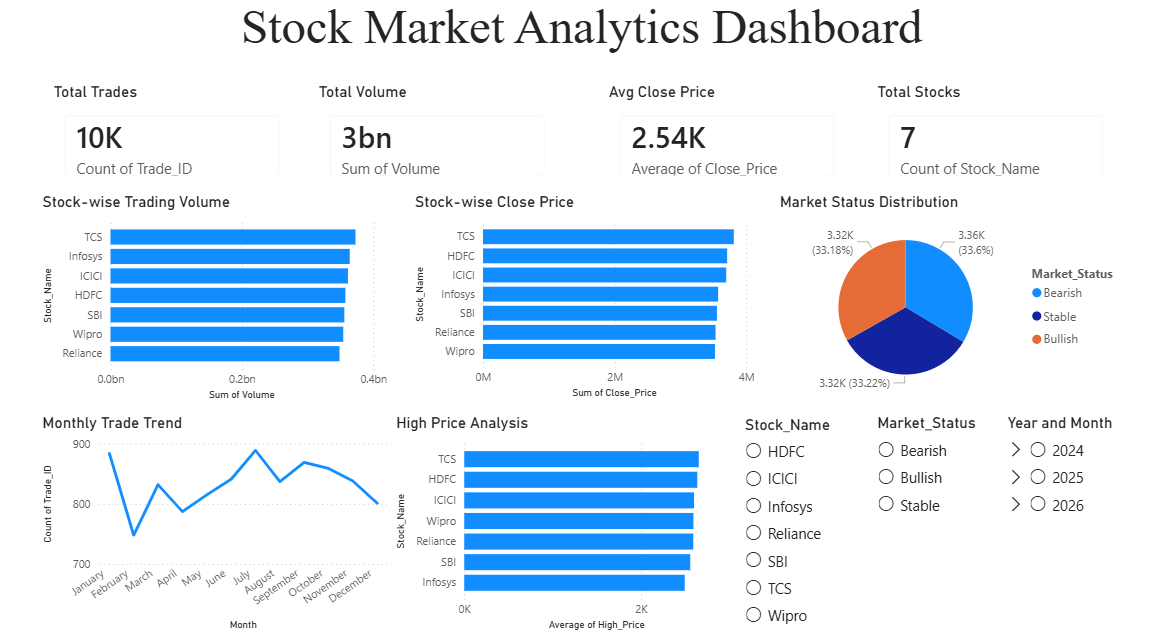

What the dashboard file says about the page in this screenshot:
{"tool":"powerbi","page":{"name":"Page 1","canvas":[1280,720],"ordinal":0},"visuals":[{"type":"textbox","box":[9.6,0,1270.7,68.6],"z":0},{"type":"cardVisual","title":"Total Trades","fields":{"Data":["CountNonNull(Sheet1.Trade_ID)"]},"box":[56.3,96.1,270.3,120.8],"z":1000},{"type":"cardVisual","title":"Total Volume","fields":{"Data":["Sum(Sheet1.Volume)"]},"box":[347.2,96.1,270.3,120.8],"z":2000},{"type":"cardVisual","title":"Avg Close Price","fields":{"Data":["Avg(Sheet1.Close_Price)"]},"box":[665.5,96.1,270.3,120.8],"z":3000},{"type":"cardVisual","title":"Total Stocks","fields":{"Data":["Count(Sheet1.Stock_Name)"]},"box":[960.6,96.1,270.3,120.8],"z":4000},{"type":"clusteredBarChart","title":"Stock-wise Trading Volume","fields":{"Y":["Sum(Sheet1.Volume)"],"Category":["Sheet1.Stock_Name"]},"box":[43.9,216.8,388.3,233.3],"z":5000},{"type":"clusteredBarChart","title":"Stock-wise Close Price","fields":{"Y":["Sum(Sheet1.Close_Price)"],"Category":["Sheet1.Stock_Name"]},"box":[452.8,216.8,382.8,230.5],"z":6000},{"type":"pieChart","title":"Market Status Distribution","fields":{"Y":["CountNonNull(Sheet1.Trade_ID)"],"Category":["Sheet1.Market_Status"]},"box":[853.5,216.8,391.1,233.3],"z":7000},{"type":"lineChart","title":"Monthly Trade Trend","fields":{"Category":["Sheet1.Trade_Date.Variation.Date Hierarchy.Month"],"Y":["CountNonNull(Sheet1.Trade_ID)"]},"box":[43.9,459.7,388.3,242.9],"z":8000},{"type":"clusteredBarChart","title":"High Price Analysis","fields":{"Y":["Avg(Sheet1.High_Price)"],"Category":["Sheet1.Stock_Name"]},"box":[432.2,459.7,382.8,242.9],"z":9000},{"type":"listSlicer","fields":{"Values":["Sheet1.Stock_Name"]},"box":[815.1,461.1,141.3,242.9],"z":10000},{"type":"listSlicer","fields":{"Values":["Sheet1.Market_Status"]},"box":[960.6,459.7,141.3,242.9],"z":11000},{"type":"listSlicer","fields":{"Values":["Sheet1.Trade_Date.Variation.Date Hierarchy.Year","Sheet1.Trade_Date.Variation.Date Hierarchy.Month","Sheet1.Trade_Date.Variation.Date Hierarchy.Day"]},"box":[1103.3,459.7,141.3,242.9],"z":12000}]}

Visuals, with their boxes in screenshot pixels (x1, y1, x2, y2), scaled from the page's 1280x720 canvas onto the 1151x643 screenshot:
textbox: <bbox>9, 0, 1150, 61</bbox>
"Total Trades" cardVisual: <bbox>51, 86, 294, 194</bbox>
"Total Volume" cardVisual: <bbox>312, 86, 555, 194</bbox>
"Avg Close Price" cardVisual: <bbox>598, 86, 841, 194</bbox>
"Total Stocks" cardVisual: <bbox>864, 86, 1107, 194</bbox>
"Stock-wise Trading Volume" clusteredBarChart: <bbox>39, 194, 389, 402</bbox>
"Stock-wise Close Price" clusteredBarChart: <bbox>407, 194, 751, 399</bbox>
"Market Status Distribution" pieChart: <bbox>767, 194, 1119, 402</bbox>
"Monthly Trade Trend" lineChart: <bbox>39, 411, 389, 627</bbox>
"High Price Analysis" clusteredBarChart: <bbox>389, 411, 733, 627</bbox>
listSlicer - Sheet1.Stock_Name: <bbox>733, 412, 860, 629</bbox>
listSlicer - Sheet1.Market_Status: <bbox>864, 411, 991, 627</bbox>
listSlicer - Sheet1.Trade_Date.Variation.Date Hierarchy.Year x Sheet1.Trade_Date.Variation.Date Hierarchy.Month: <bbox>992, 411, 1119, 627</bbox>
